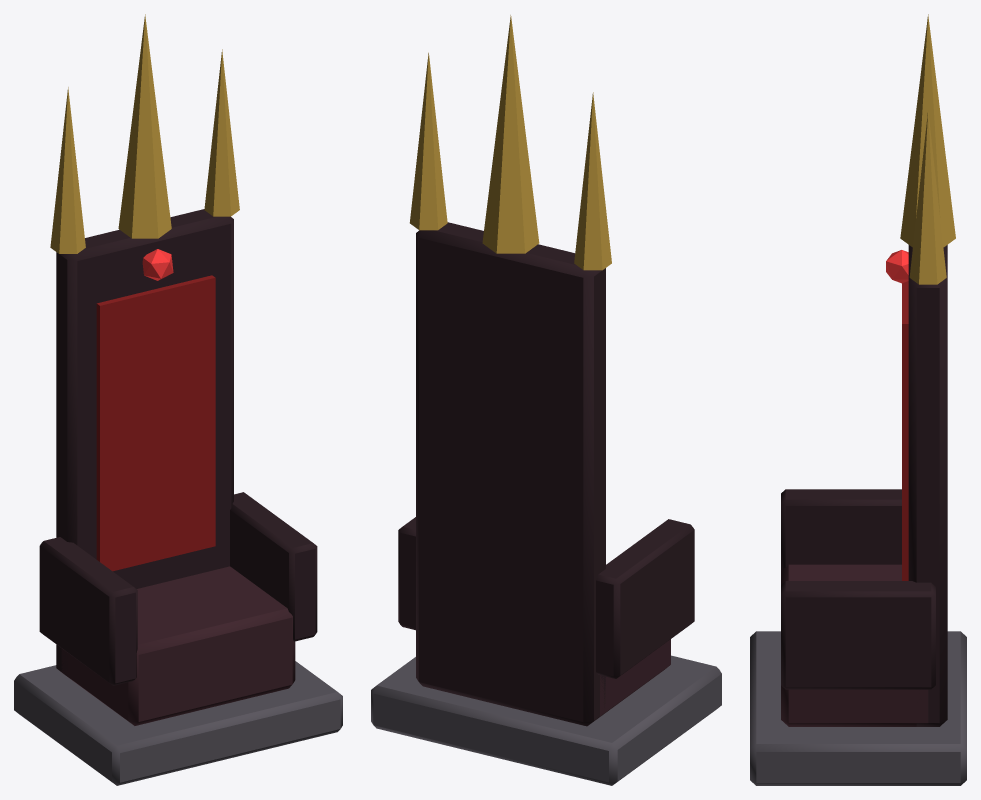
File: gothic_throne.glb
3 views of the same model, side by side, from view 1: azimuth 30°, elevation 25°; view 2: azimuth 150°, elevation 25°; view 3: azimuth 270°, elevation 25° (orthographic). The views are drawn at different scales.
Parts seen in each view (by area): view 1: gothic_throne; view 2: gothic_throne; view 3: gothic_throne.
Part boxes in pixels (<box>): gothic_throne: <box>14,14,342,785</box>; gothic_throne: <box>371,15,721,785</box>; gothic_throne: <box>750,14,966,785</box>.
Bounding box in the file's own units: 1.8 × 5.1 × 1.4.
